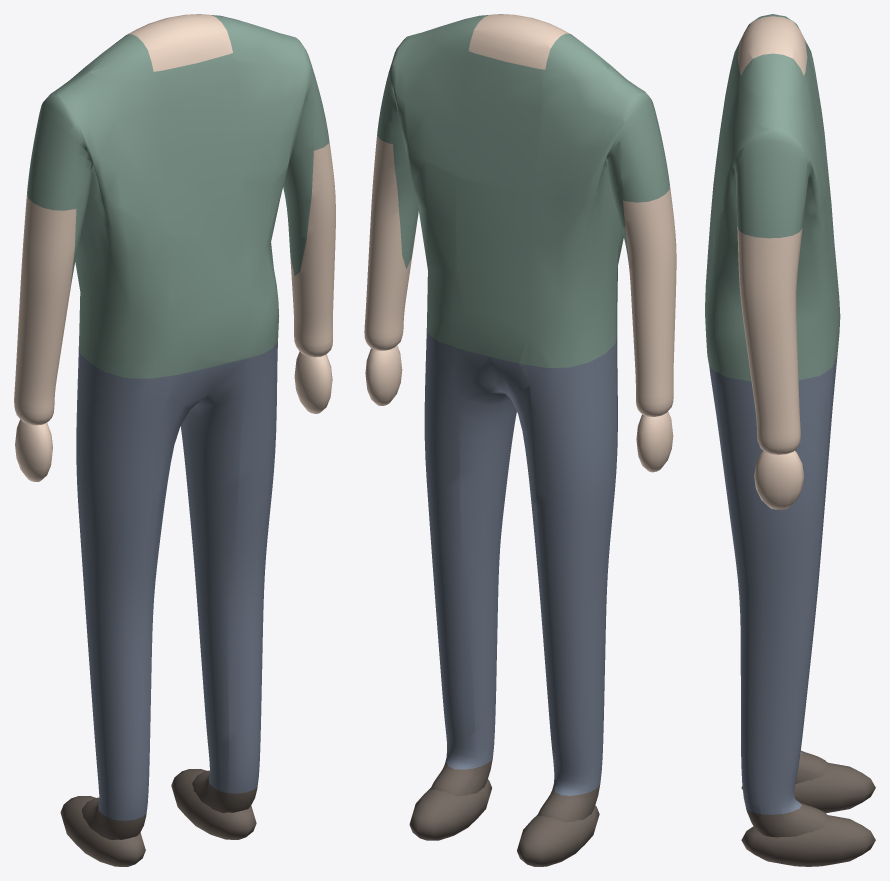
File: gente.cuerpo_hombre.fbx
3 renders of one model, left to right at view 1: azimuth 30°, elevation 25°; view 2: azimuth 150°, elevation 25°; view 3: azimuth 270°, elevation 25°, orthographic. The views are drawn at different scales.
Visible parts, largest first — view 1: Cuerpo, Zapato, Zapato.001, Mano, Mano.001; view 2: Cuerpo, Zapato, Zapato.001, Mano, Mano.001; view 3: Cuerpo, Zapato, Zapato.001, Mano.
Boxes of the visible parts, box(x1,y1,x2,y2) form: Cuerpo: box(14, 14, 335, 839); Zapato: box(171, 769, 256, 839); Zapato.001: box(60, 796, 145, 866); Mano: box(294, 351, 332, 413); Mano.001: box(15, 419, 52, 481); Cuerpo: box(364, 14, 676, 822); Zapato: box(409, 779, 491, 840); Zapato.001: box(517, 805, 599, 866); Mano: box(365, 345, 402, 405); Mano.001: box(636, 411, 673, 472); Cuerpo: box(705, 14, 840, 837); Zapato: box(741, 815, 875, 866); Zapato.001: box(741, 762, 875, 813); Mano: box(754, 450, 804, 509).
Bounding box in the file's own units: 0.5904 × 1.51 × 0.2896.
